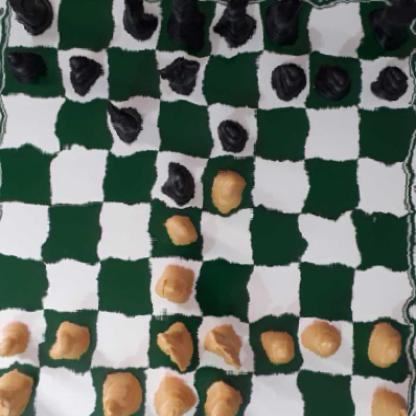black-bishop: (260, 0, 307, 49), (121, 0, 160, 40)
black-king: (217, 0, 253, 52)
black-knight: (157, 54, 201, 101), (105, 97, 149, 143)
black-pawn: (6, 49, 53, 86), (162, 161, 199, 203), (64, 52, 102, 92), (315, 55, 350, 98), (271, 61, 306, 103), (369, 64, 406, 103), (213, 116, 249, 156)
black-queen: (162, 0, 209, 51)
black-rook: (364, 0, 416, 51), (4, 0, 56, 41)
white-bishop: (95, 369, 140, 416), (159, 259, 199, 306)
white-king: (203, 370, 246, 416)
white-knight: (207, 324, 246, 367), (157, 324, 195, 368)
white-pawn: (44, 318, 94, 362), (361, 324, 404, 368), (0, 316, 36, 364), (255, 324, 294, 367), (206, 166, 248, 205), (303, 317, 340, 360), (161, 210, 198, 247)
white-queen: (152, 368, 192, 416)
white-rook: (0, 370, 39, 416), (363, 384, 416, 416)
